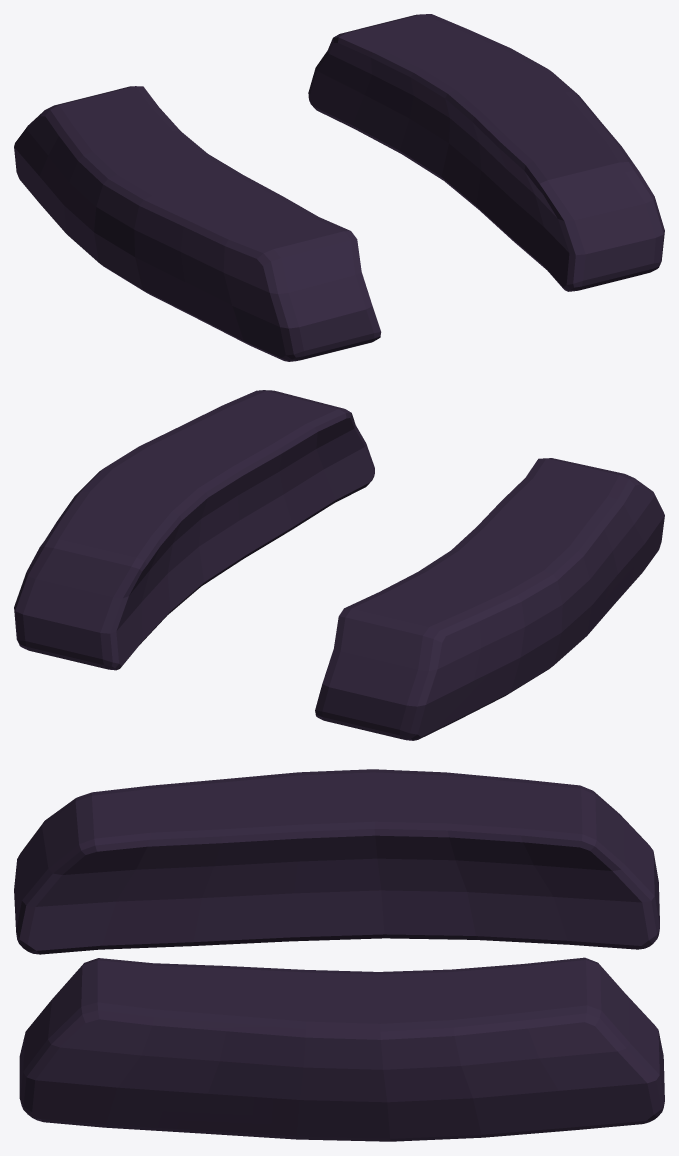
The model's file is Heavenly Fire_Caterpillar track.fbx.
The picture shows the model from 3 angles, top to bottom: view 1: azimuth 30°, elevation 25°; view 2: azimuth 150°, elevation 25°; view 3: azimuth 270°, elevation 25°; orthographic projection. The views are drawn at different scales.
Parts seen in each view (by area): view 1: Heavenly Fire_Caterpillar track_Baked; view 2: Heavenly Fire_Caterpillar track_Baked; view 3: Heavenly Fire_Caterpillar track_Baked.
Boxes of the visible parts, x1=… form: Heavenly Fire_Caterpillar track_Baked: x1=14, y1=14, x2=664, y2=361; Heavenly Fire_Caterpillar track_Baked: x1=14, y1=390, x2=664, y2=740; Heavenly Fire_Caterpillar track_Baked: x1=14, y1=769, x2=664, y2=1141.
Size of the model in its own units: 343 by 66.6 by 342.
Materials: 1 (1 with a texture image).
